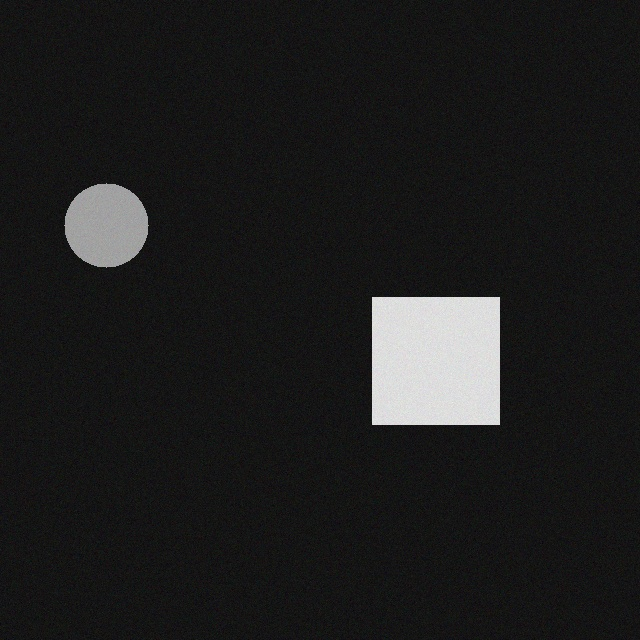circle: (49, 174, 133, 258)
square: (357, 288, 484, 415)
